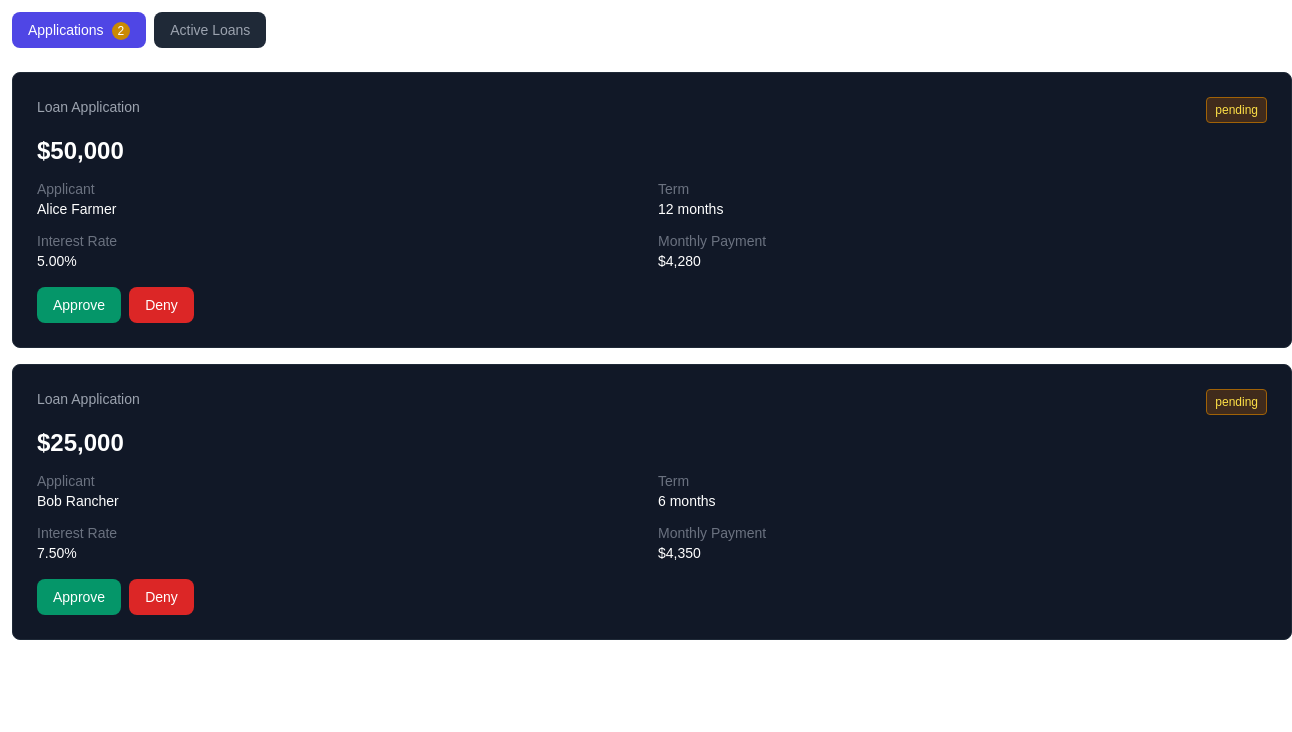
Test: BankOwnerPanel › shows denial reason input when Deny is clicked
Expected: the text "Alice Farmer" is shown, [37,201,116,217]
Click the button "Deny" below "5.00": (162, 305) [129,287,194,323]
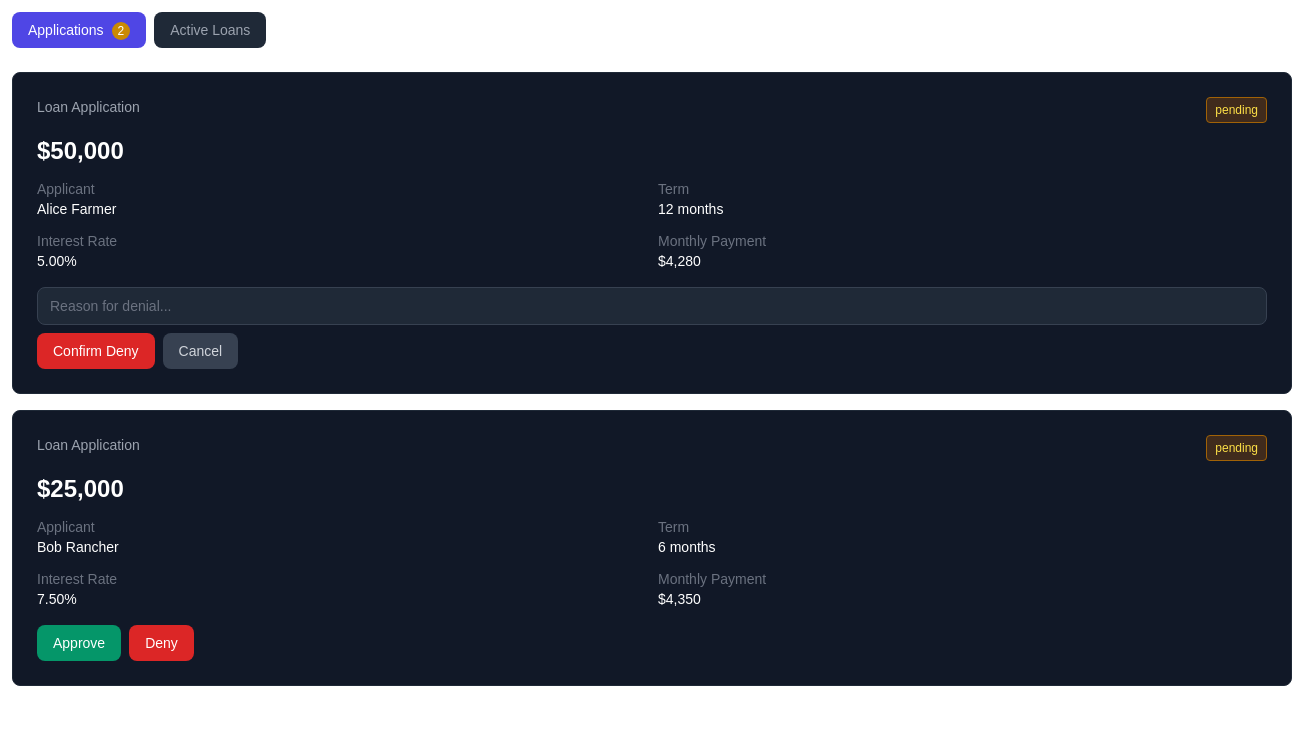
Expected: the field with placeholder "Reason for denial..." is shown, [37,287,1267,325]
Expected: the button "Confirm Deny" is shown, [37,333,155,369]
Expected: the button "Cancel" is shown, [163,333,238,369]
